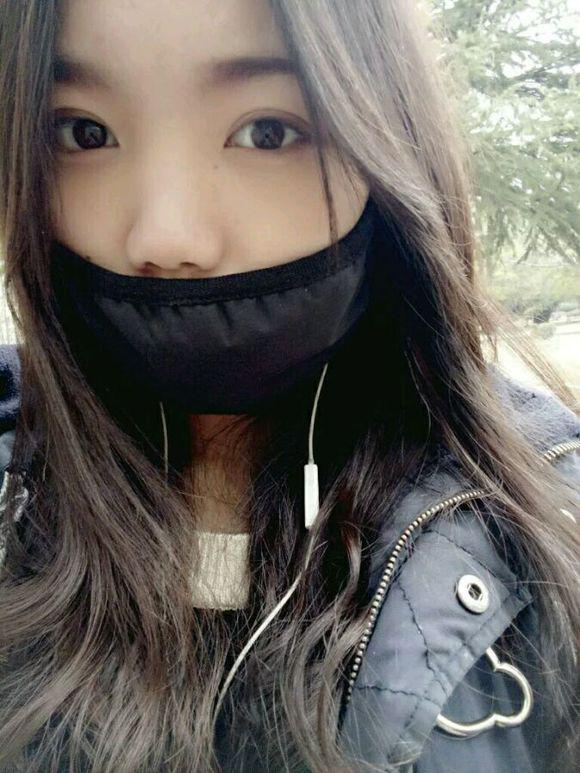WRONG: (6, 41, 346, 381)
